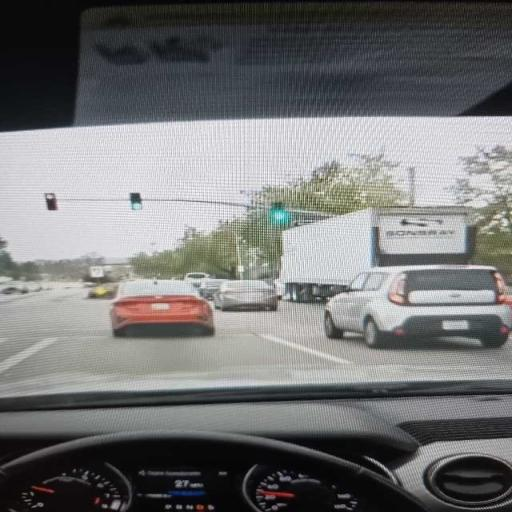car: (324, 266, 511, 347), (111, 280, 214, 336), (214, 280, 278, 310), (199, 278, 225, 300), (88, 284, 116, 298), (184, 272, 209, 287), (273, 279, 284, 299), (0, 286, 21, 294)
lane: (2, 293, 337, 382), (255, 302, 511, 369)
truck: (280, 207, 475, 301)
